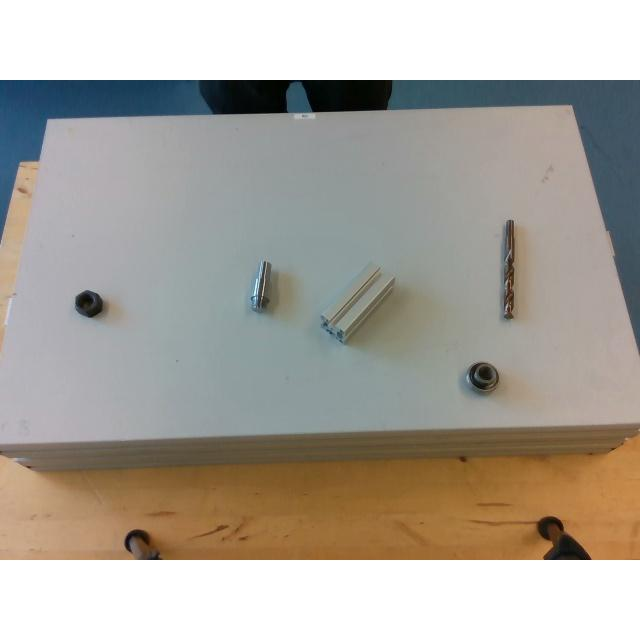Axis2: (250, 258, 274, 314)
Bearing2: (467, 361, 499, 391)
Drill: (502, 220, 516, 320)
M20: (74, 290, 102, 316)
S40_40_G: (322, 265, 394, 341)
